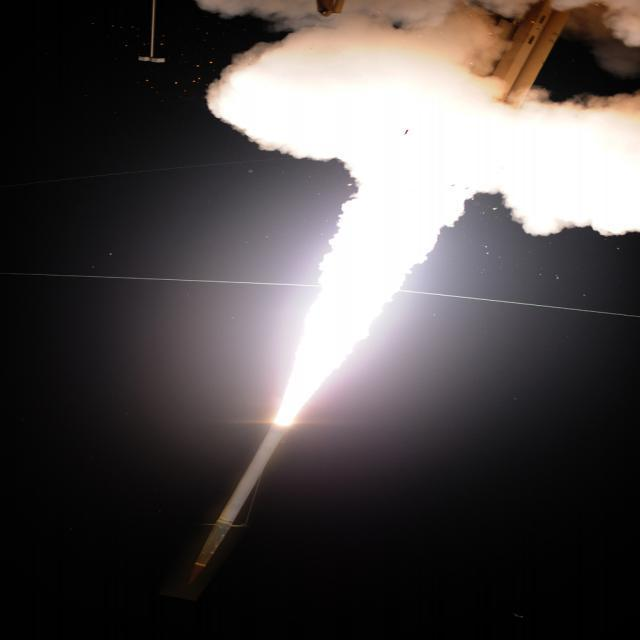missile: (162, 385, 319, 606)
